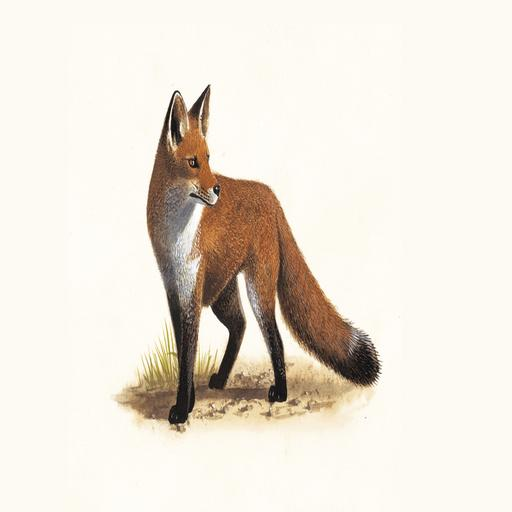Fox: (146, 83, 387, 433)
